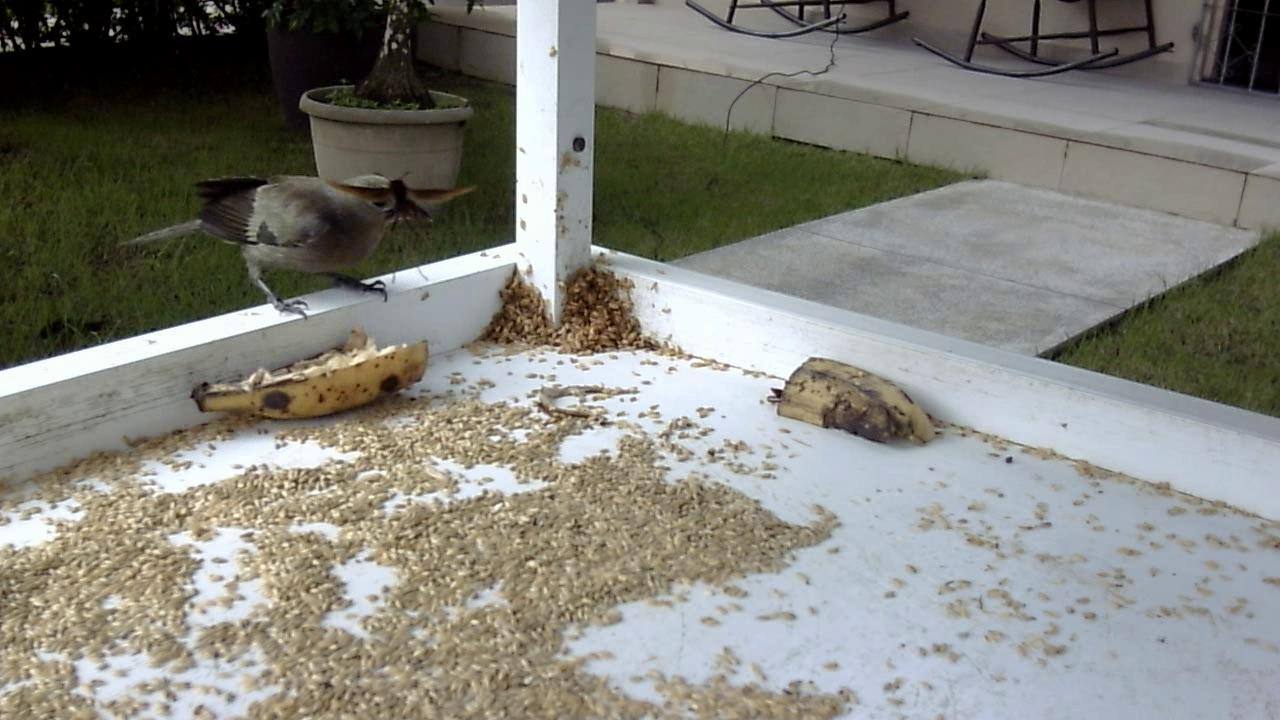sanhaco_do_coqueiro: (116, 162, 436, 330)
